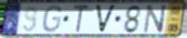8: (123, 3, 142, 35)
9: (22, 5, 40, 33)
G: (41, 5, 63, 34)
N: (142, 4, 168, 34)
T: (73, 4, 91, 34)
V: (94, 4, 117, 34)
